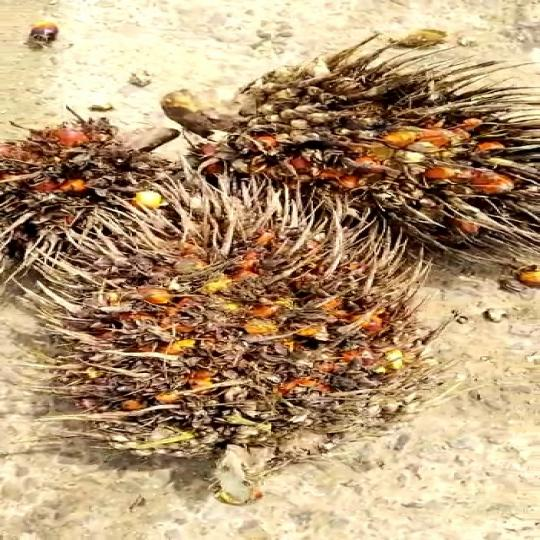terlalu masak: (8, 198, 430, 492), (173, 77, 540, 237)
